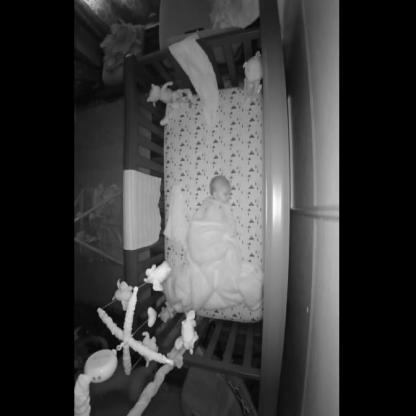baby: (195, 175, 237, 219)
